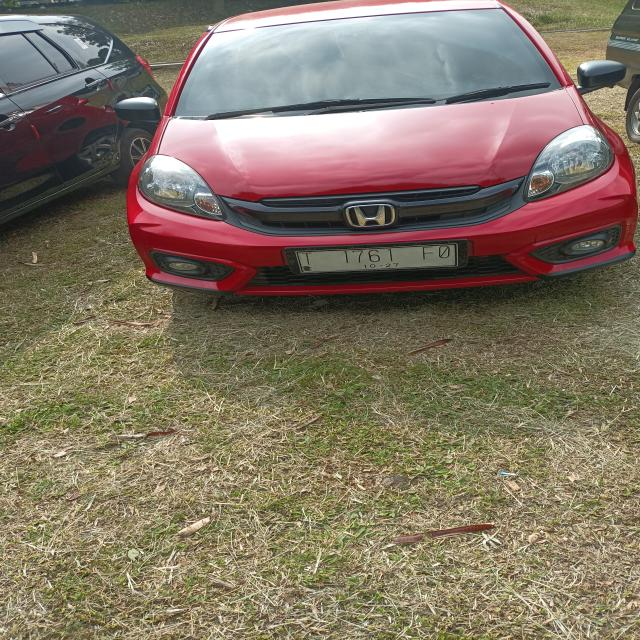license-plat: (288, 239, 470, 282)
